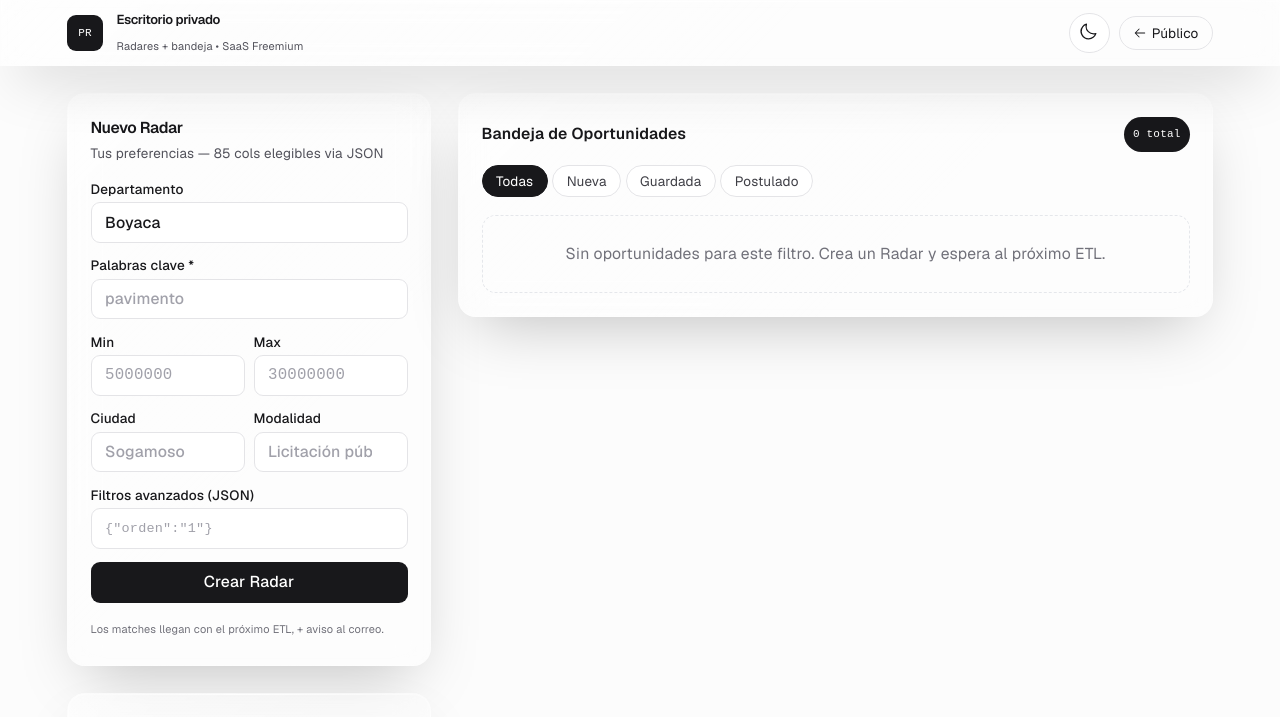
PrivateDashboard › crea radar con POST y confirma mensaje
In the field with placeholder "pavimento": x=249, y=299 [90, 278, 408, 319], type "puente"
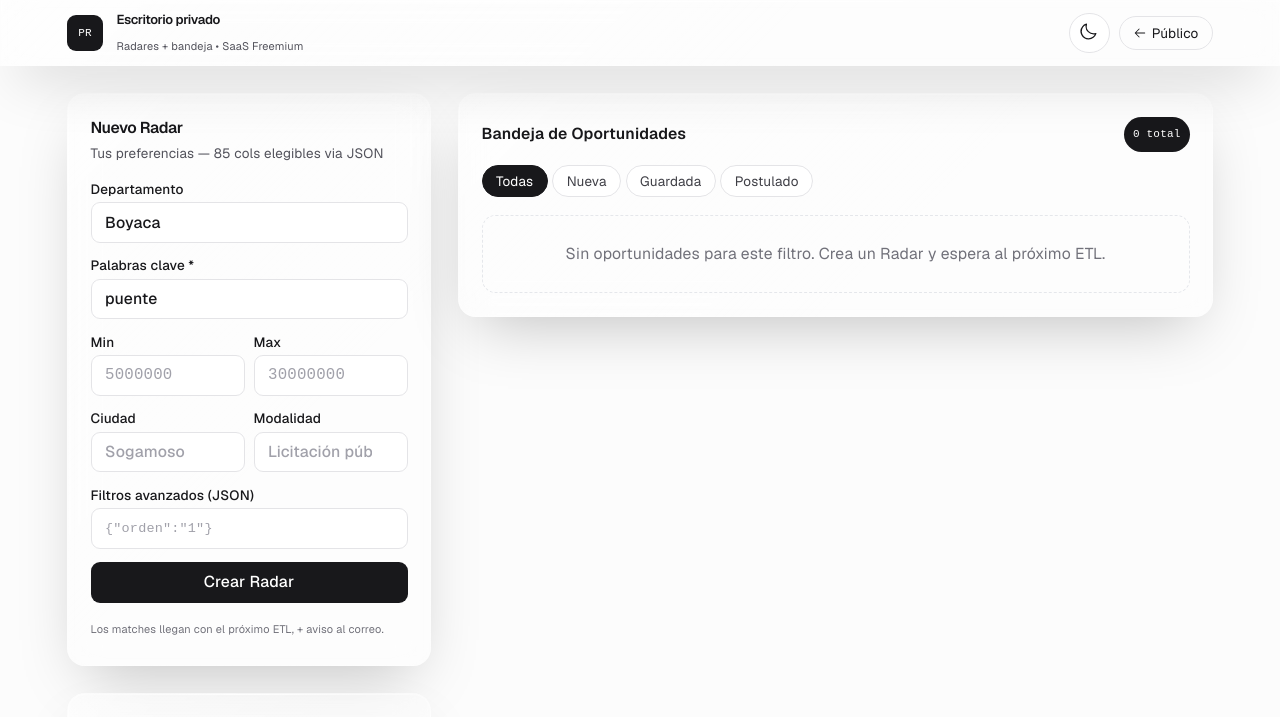
Click the button "Crear Radar": x=249, y=582 [90, 562, 408, 602]
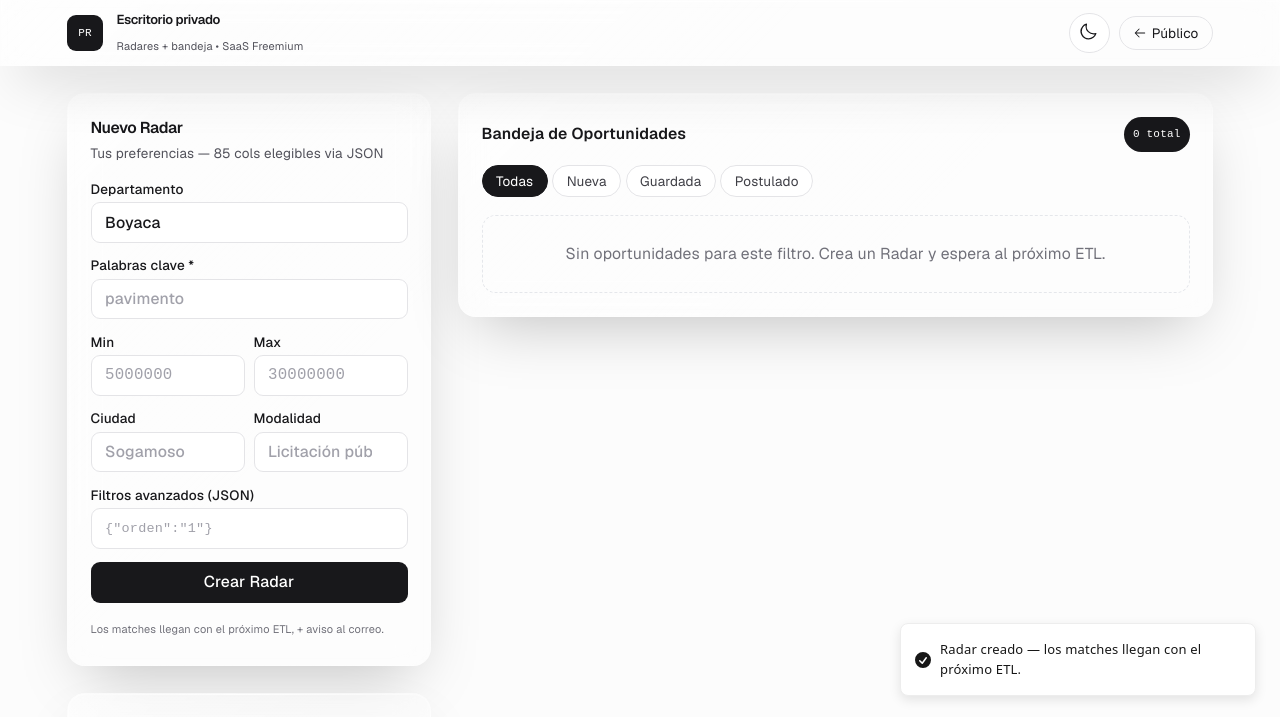
Check: the text "Radar creado — los matches llegan con el próximo ETL." is shown, box [940, 640, 1239, 679]
